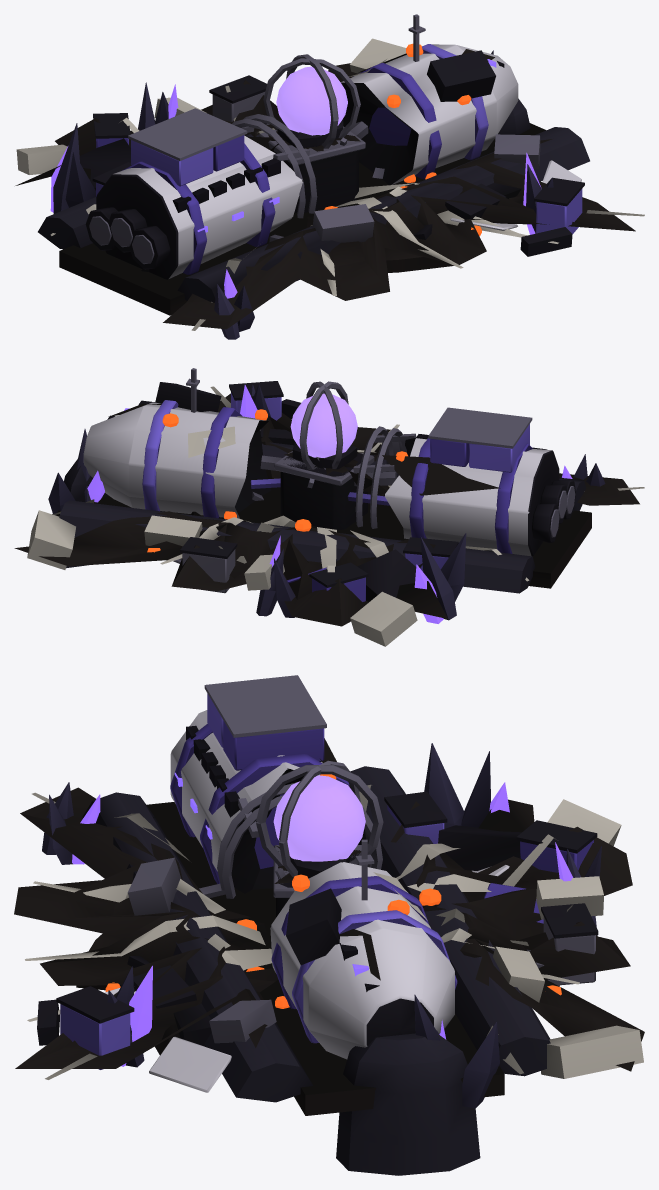
The model's file is crash-site-umbra.glb.
3 renders of one model, top to bottom at view 1: azimuth 30°, elevation 25°; view 2: azimuth 150°, elevation 25°; view 3: azimuth 270°, elevation 25°, orthographic. The views are drawn at different scales.
Visible parts, largest first — view 1: site_crash_site_umbra_body, site_crash_site_umbra_ruin, site_crash_site_umbra_core; view 2: site_crash_site_umbra_body, site_crash_site_umbra_ruin, site_crash_site_umbra_core; view 3: site_crash_site_umbra_body, site_crash_site_umbra_ruin, site_crash_site_umbra_core.
Part boxes in pixels (x1=…): site_crash_site_umbra_body: x1=38, y1=14, x2=589, y2=339; site_crash_site_umbra_ruin: x1=15, y1=38, x2=644, y2=330; site_crash_site_umbra_core: x1=263, y1=54, x2=360, y2=148; site_crash_site_umbra_body: x1=48, y1=368, x2=605, y2=623; site_crash_site_umbra_ruin: x1=14, y1=382, x2=644, y2=646; site_crash_site_umbra_core: x1=290, y1=381, x2=357, y2=469; site_crash_site_umbra_body: x1=42, y1=675, x2=601, y2=1175; site_crash_site_umbra_ruin: x1=14, y1=738, x2=644, y2=1079; site_crash_site_umbra_core: x1=256, y1=760, x2=383, y2=877.
Bounding box in the file's own units: 5.72 × 2.23 × 4.92.
